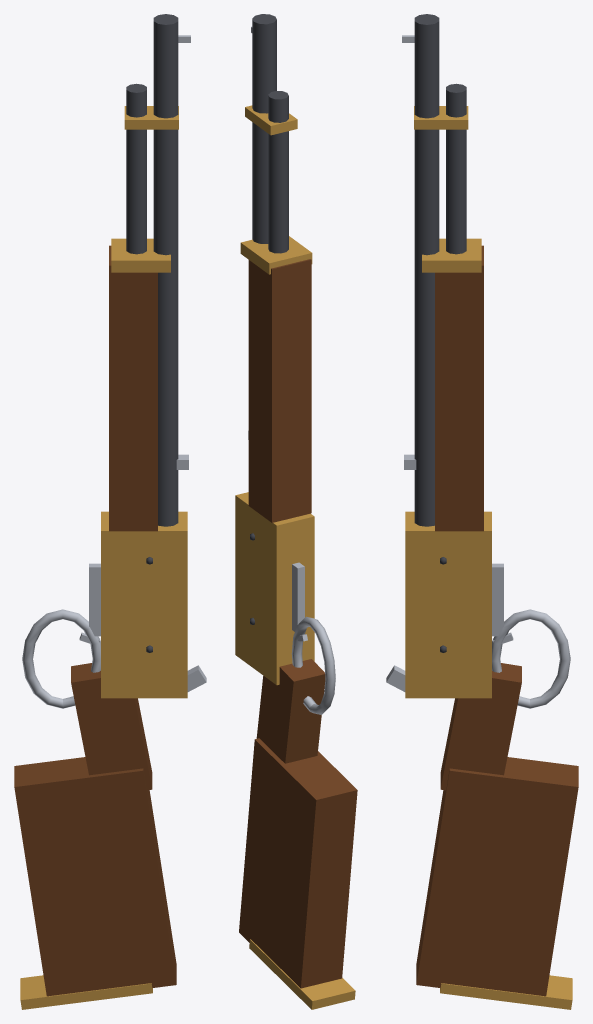
The model's file is lever_rifle.glb.
3 renders of one model, left to right at view 1: azimuth 90°, elevation 25°; view 2: azimuth 210°, elevation 25°; view 3: azimuth 270°, elevation 25°, orthographic. The views are drawn at different scales.
Parts seen in each view (by area): view 1: LeverRifle_Wood, LeverRifle_Brass, LeverRifle_Gunmetal, LeverRifle_Steel; view 2: LeverRifle_Wood, LeverRifle_Brass, LeverRifle_Gunmetal, LeverRifle_Steel; view 3: LeverRifle_Wood, LeverRifle_Brass, LeverRifle_Gunmetal, LeverRifle_Steel.
Part boxes in pixels (x1,y1,x2,y2): LeverRifle_Wood: (14, 245, 176, 996); LeverRifle_Brass: (20, 106, 187, 1009); LeverRifle_Gunmetal: (126, 14, 178, 526); LeverRifle_Steel: (22, 35, 206, 708); LeverRifle_Wood: (239, 259, 357, 988); LeverRifle_Brass: (235, 105, 355, 1009); LeverRifle_Gunmetal: (252, 14, 288, 253); LeverRifle_Steel: (248, 26, 335, 714); LeverRifle_Wood: (416, 245, 578, 996); LeverRifle_Brass: (405, 106, 572, 1009); LeverRifle_Gunmetal: (414, 14, 466, 526); LeverRifle_Steel: (386, 35, 570, 708).
Bounding box in the file's own units: 0.0499 × 0.9954 × 0.1771.
